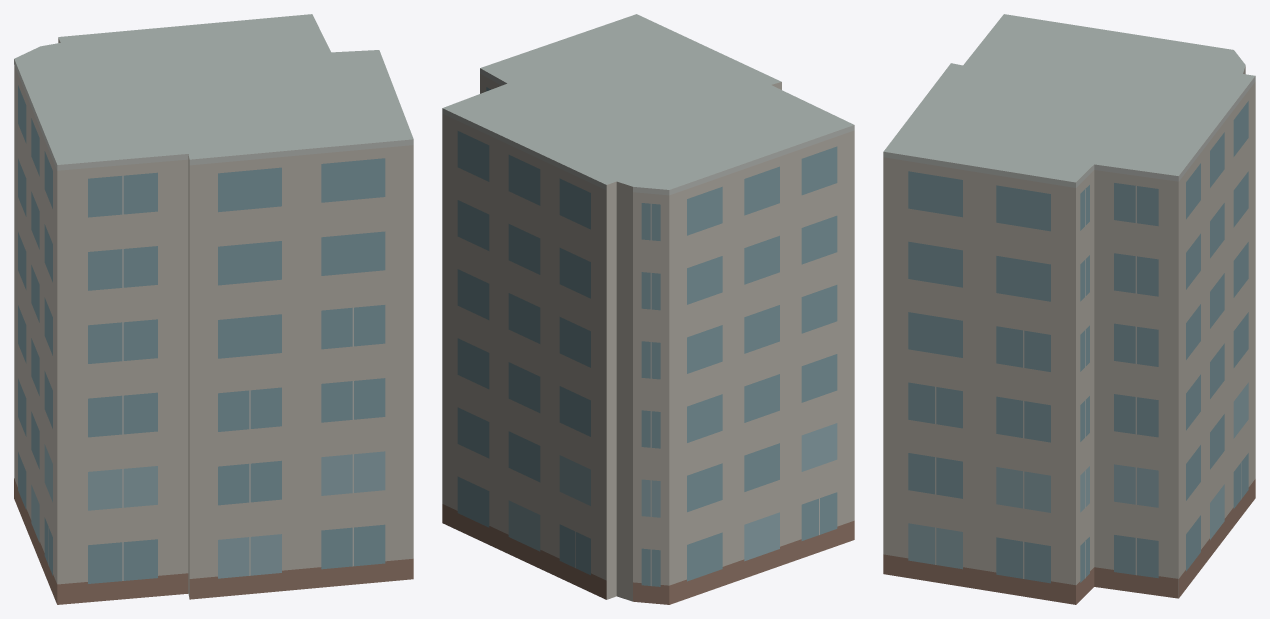
File: survey-upis-32820351.glb
3 renders of one model, left to right at view 1: azimuth 30°, elevation 25°; view 2: azimuth 150°, elevation 25°; view 3: azimuth 270°, elevation 25°, orthographic. The views are drawn at different scales.
Parts seen in each view (by area): view 1: survey-upis-32820351.tmp; view 2: survey-upis-32820351.tmp; view 3: survey-upis-32820351.tmp.
Part boxes in pixels (x1=…): survey-upis-32820351.tmp: x1=14, y1=14, x2=413, y2=604; survey-upis-32820351.tmp: x1=442, y1=14, x2=854, y2=604; survey-upis-32820351.tmp: x1=883, y1=14, x2=1255, y2=604.
Bounding box in the file's own units: 16.01 × 18.7 × 14.94.
